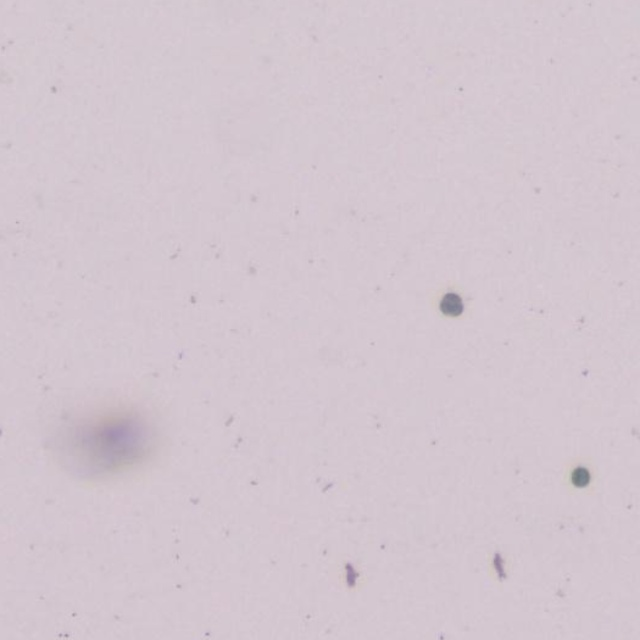non_viable: (440, 293, 463, 316), (571, 466, 590, 486)
